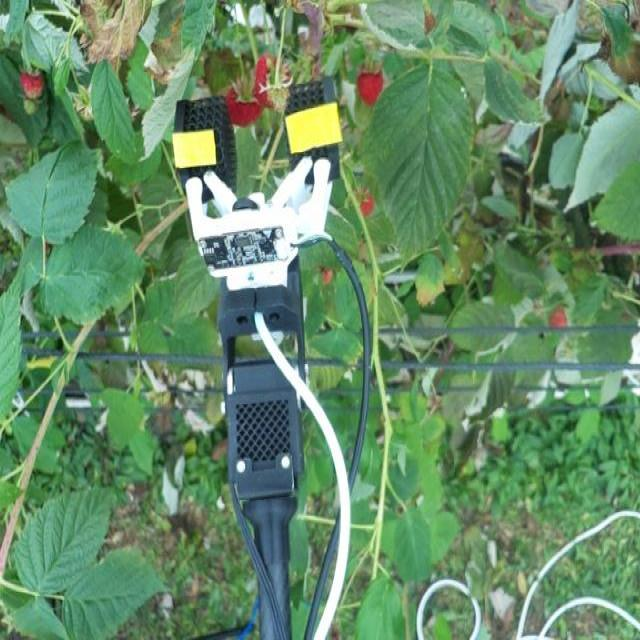Riped berries: (251, 44, 291, 97), (226, 77, 262, 128), (354, 55, 388, 106), (348, 180, 379, 223), (16, 67, 51, 104)
